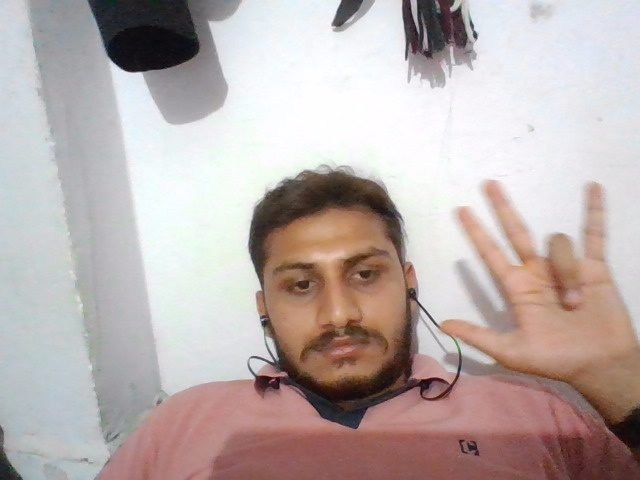ILoveYou: (430, 164, 631, 382)
